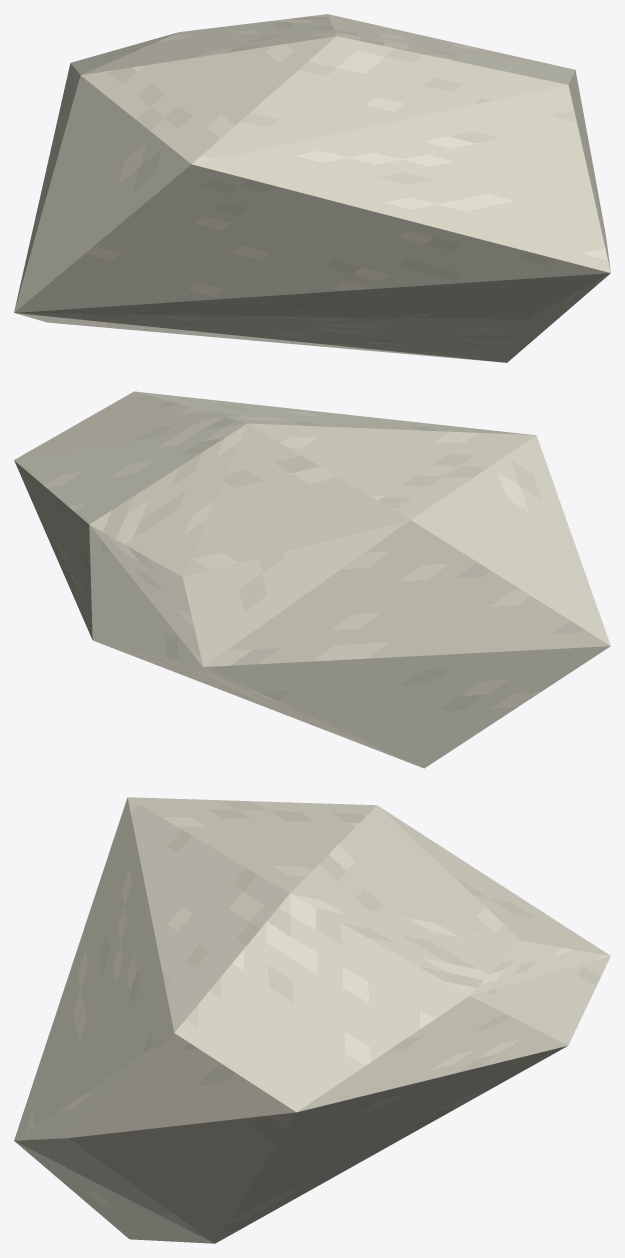
Rendered from material_styrofoam_chunk.glb.
3 views of the same model, one above another, from view 1: azimuth 30°, elevation 25°; view 2: azimuth 150°, elevation 25°; view 3: azimuth 270°, elevation 25° (orthographic). The views are drawn at different scales.
Parts seen in each view (by area): view 1: block_irregular fragment; view 2: block_irregular fragment; view 3: block_irregular fragment.
Boxes of the visible parts, <box> form: block_irregular fragment: <box>14,14,610,362</box>; block_irregular fragment: <box>14,391,610,768</box>; block_irregular fragment: <box>14,797,610,1243</box>.
Bounding box in the file's own units: 0.0697 × 0.0327 × 0.0591.
1 material, 1 textured.
